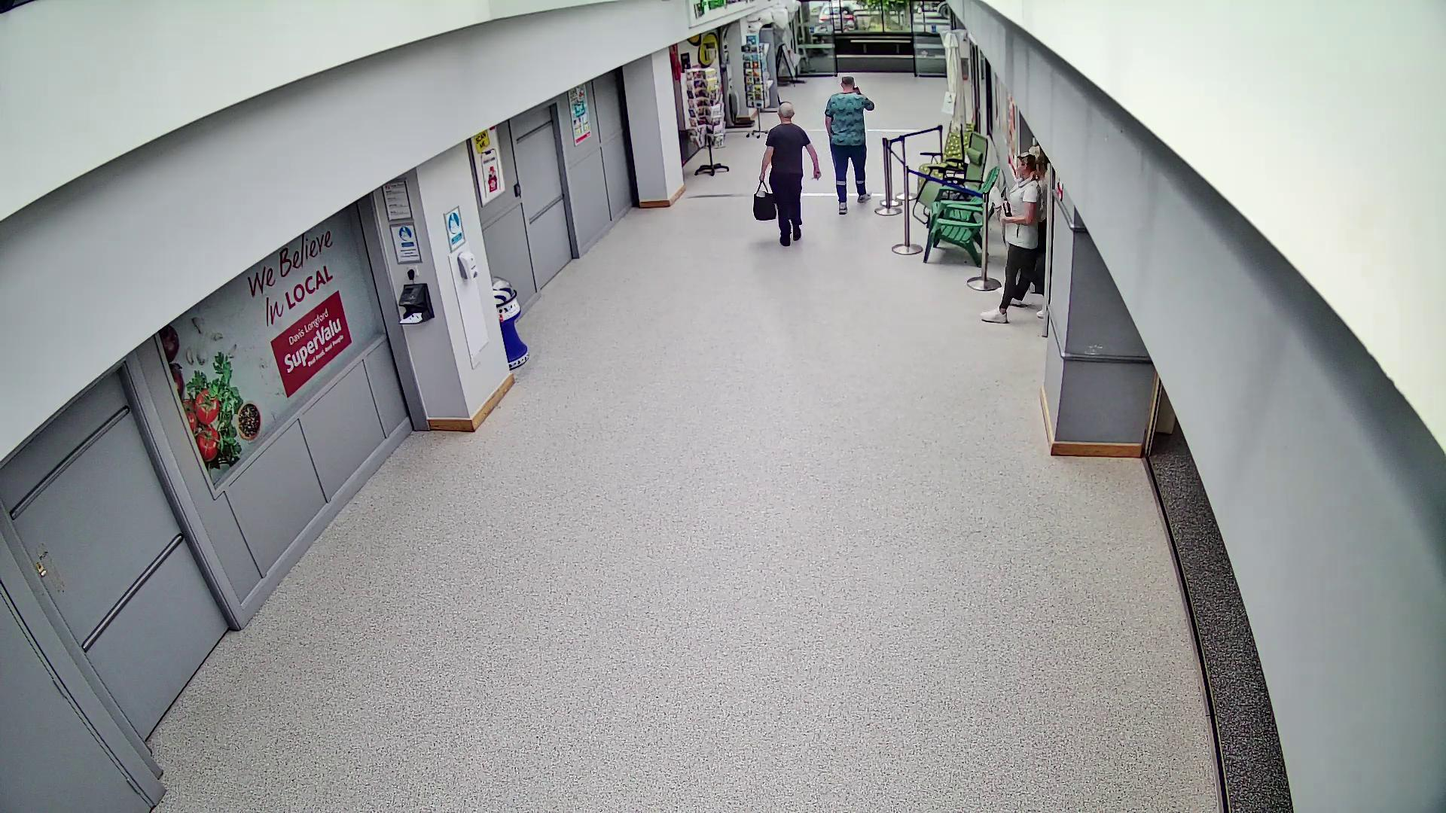filled-shopping-bags: (752, 180, 777, 221)
person: (752, 103, 822, 246)
person-with-filled-shopping-bag-s-: (752, 102, 822, 246)
